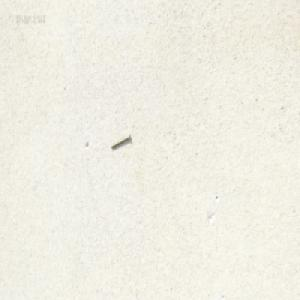Bolt: (110, 132, 130, 149)
